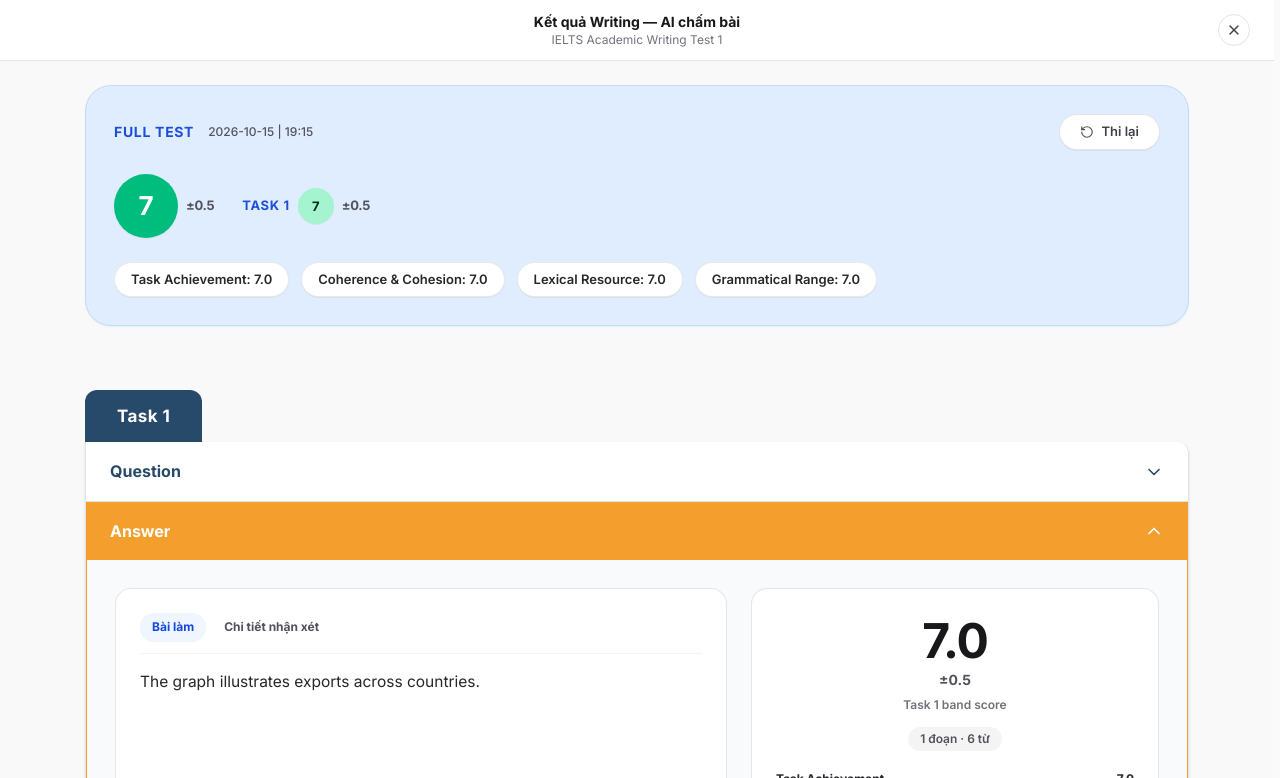
WritingExam - KIỂM THỬ BẮT BUỘC: Ca 9 đến Ca 12 › Ca 11: tab "Chi tiết nhận xét" hiển thị đủ 4 thẻ với Ưu điểm, Nhược điểm, Cách cải thiện; cột phải có tiêu đề "Tổng quan"
Click the button "Chi tiết nhận xét" at (272, 627), box 212,613 -> 331,641
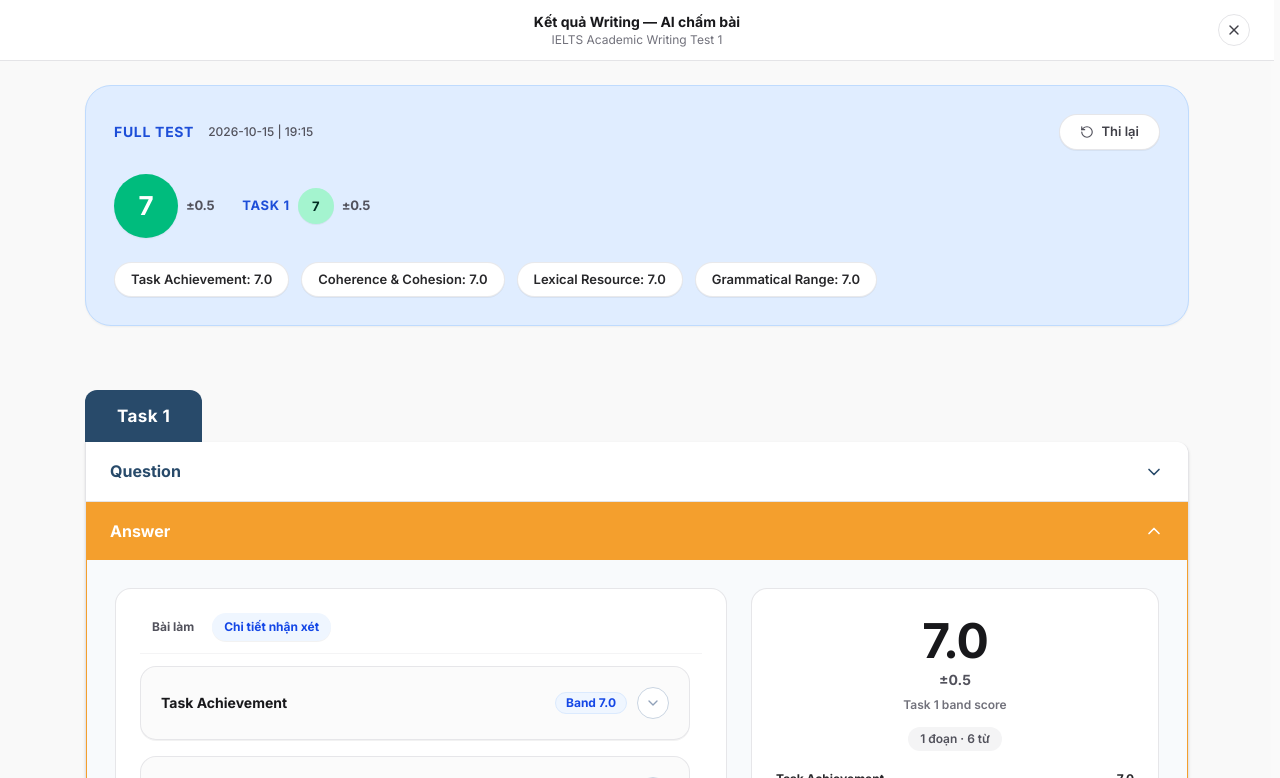
Expected: the text "Ưu điểm" is not shown
Now the number of buttons named "Chi tiết nhận xét Task Achievement" is 4
Click the button named "Chi tiết nhận xét Task Achievement" at (653, 703), box 637,687 -> 669,719
(page scrolled)
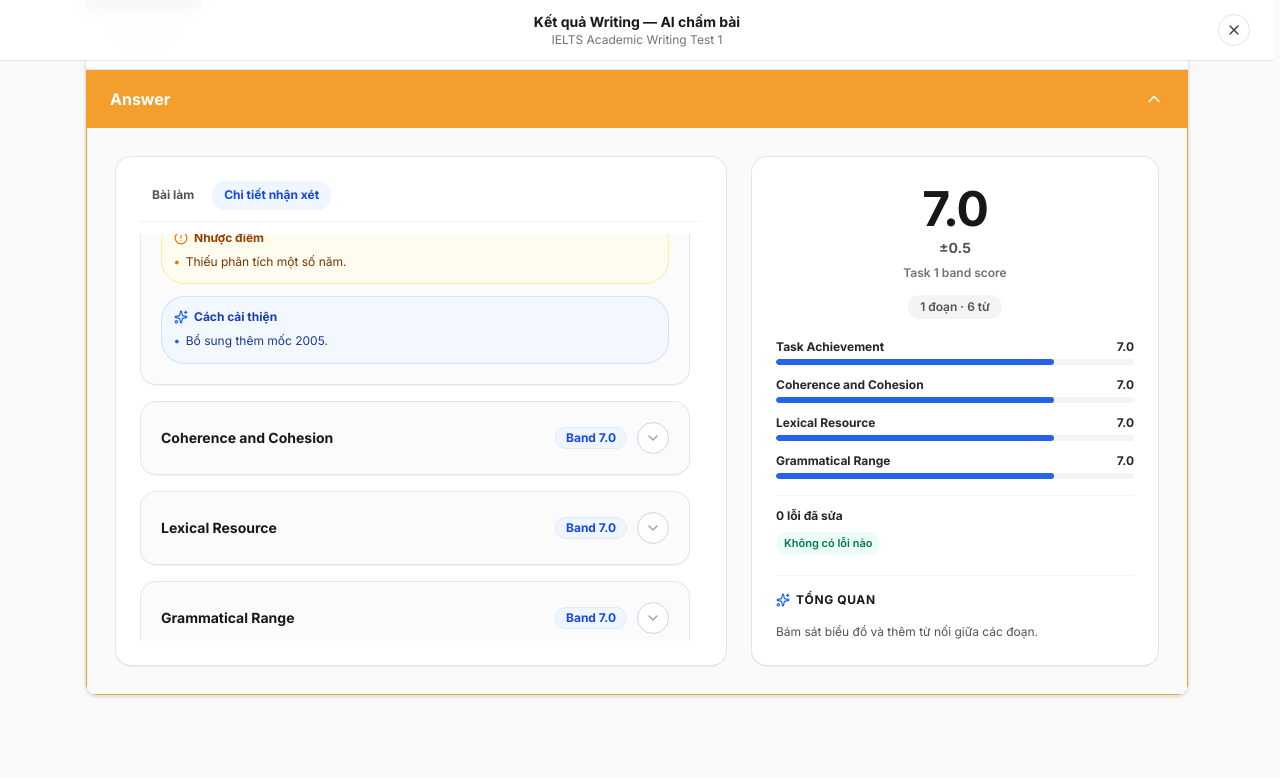
Click the button named "Chi tiết nhận xét Coherence and Cohesion" at (653, 438), box 637,422 -> 669,454
(page scrolled)
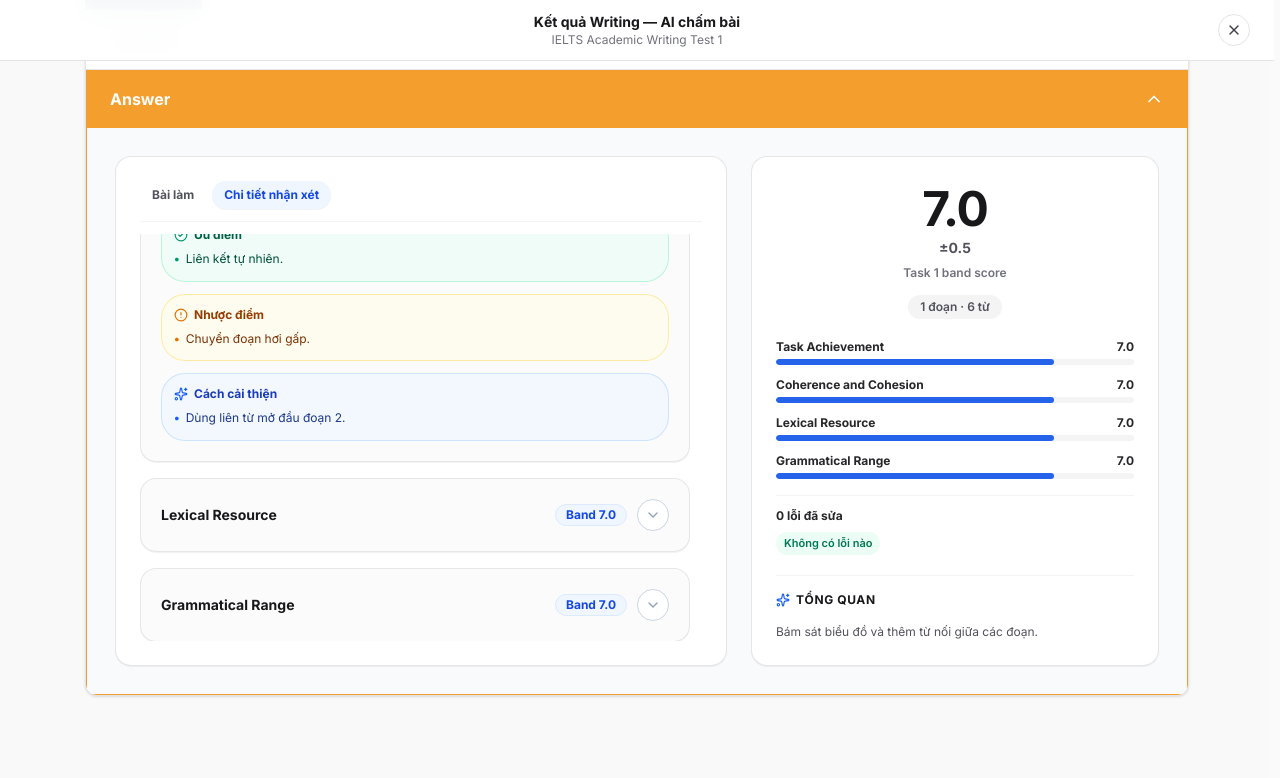
Click the button named "Chi tiết nhận xét Lexical Resource" at (653, 514), box 637,498 -> 669,530
(page scrolled)
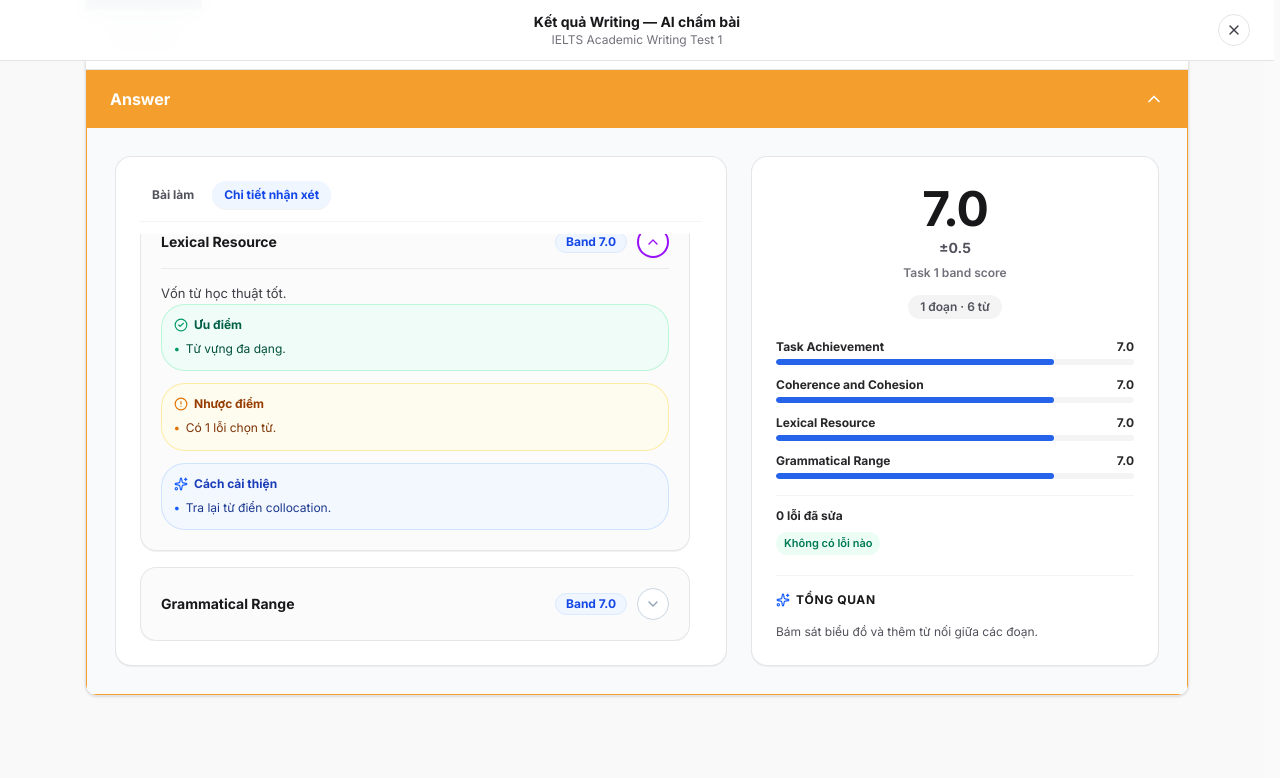
Click the button named "Chi tiết nhận xét Grammatical Range" at (653, 604), box 637,588 -> 669,620
(page scrolled)
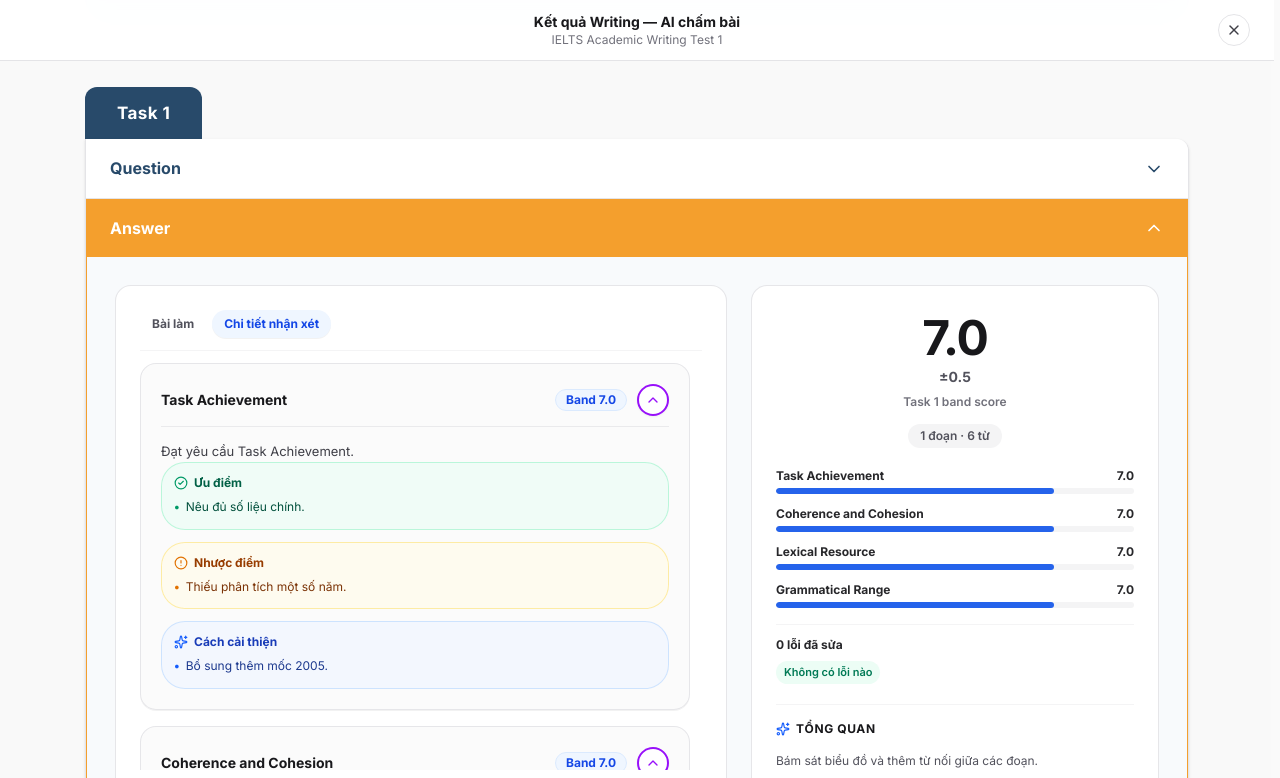
Now the text "Ưu điểm" is shown 4 times
Now the text "Nhược điểm" is shown 4 times
Now the text "Cách cải thiện" is shown 4 times
Click the button named "Thu gọn nhận xét Task Achievement" at (653, 400), box 637,384 -> 669,416
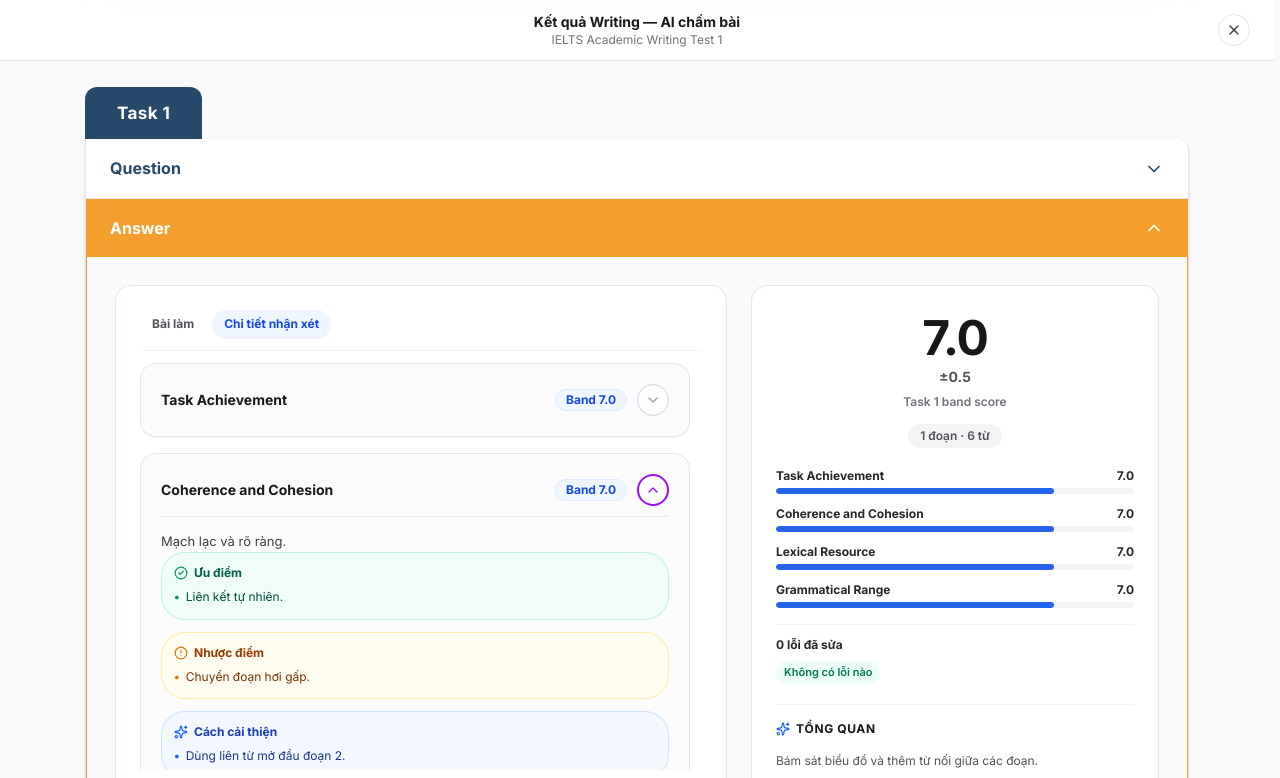
Now the text "Nêu đủ số liệu chính." is gone
